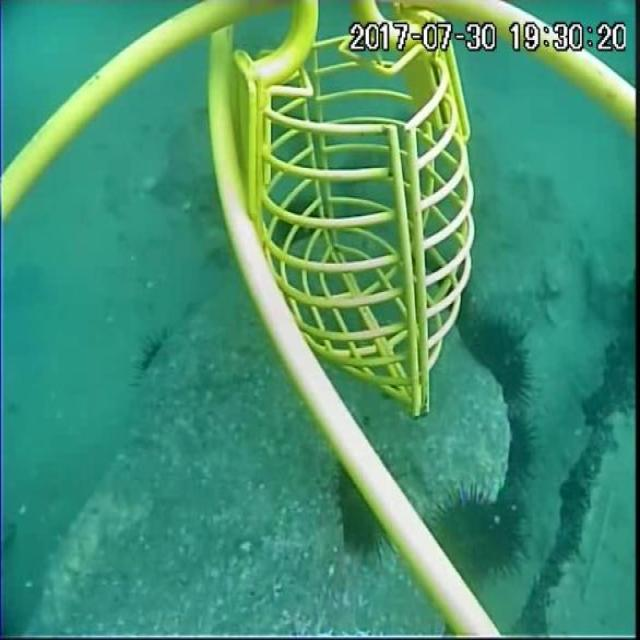echinus: (420, 482, 531, 586), (330, 452, 402, 567), (460, 306, 530, 402), (497, 409, 543, 487)
